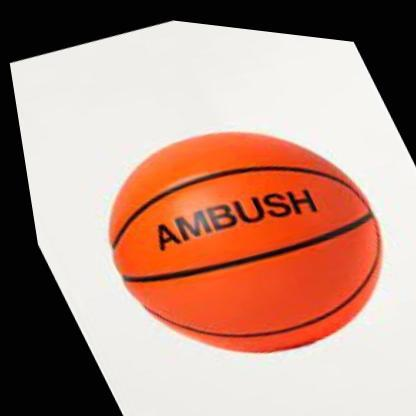basketball: (50, 72, 416, 400)
